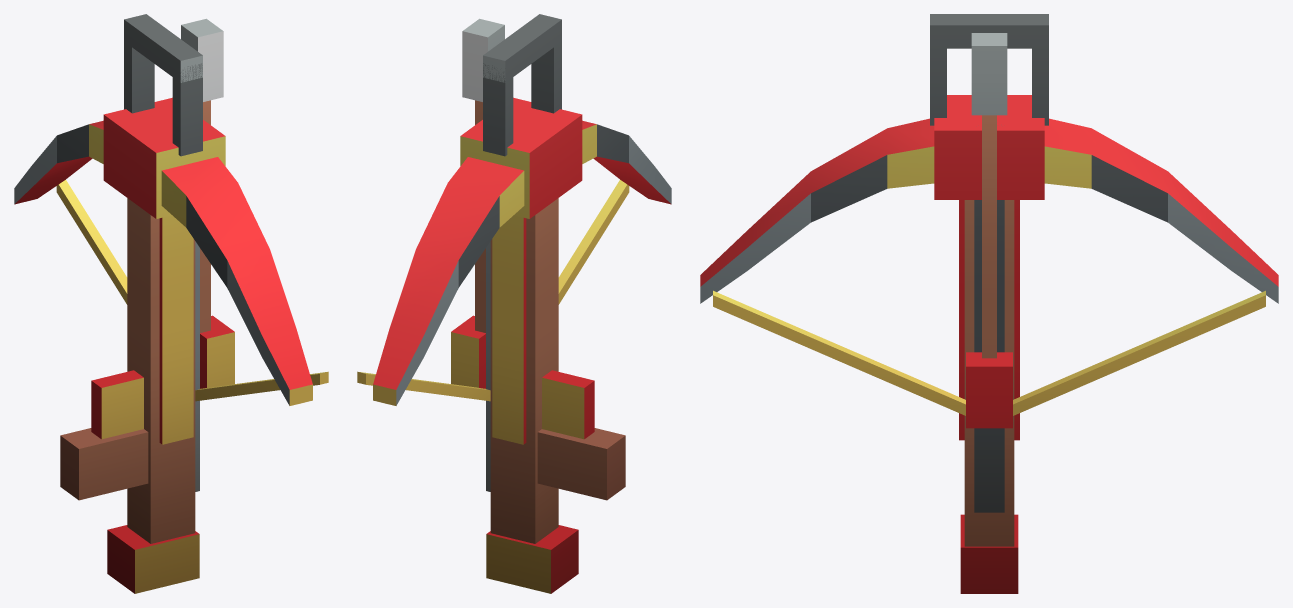
The model's file is crossbow_gilded.glb.
3 renders of one model, left to right at view 1: azimuth 30°, elevation 25°; view 2: azimuth 150°, elevation 25°; view 3: azimuth 270°, elevation 25°, orthographic. The views are drawn at different scales.
Parts seen in each view (by area): view 1: Item; view 2: Item; view 3: Item.
Boxes of the visible parts, x1,y1,x2,y2 form: Item: [14, 14, 328, 593]; Item: [357, 14, 671, 593]; Item: [700, 14, 1278, 593].
Bounding box in the file's own units: 0.44 × 1.46 × 1.36.
4 materials, 4 textured.
